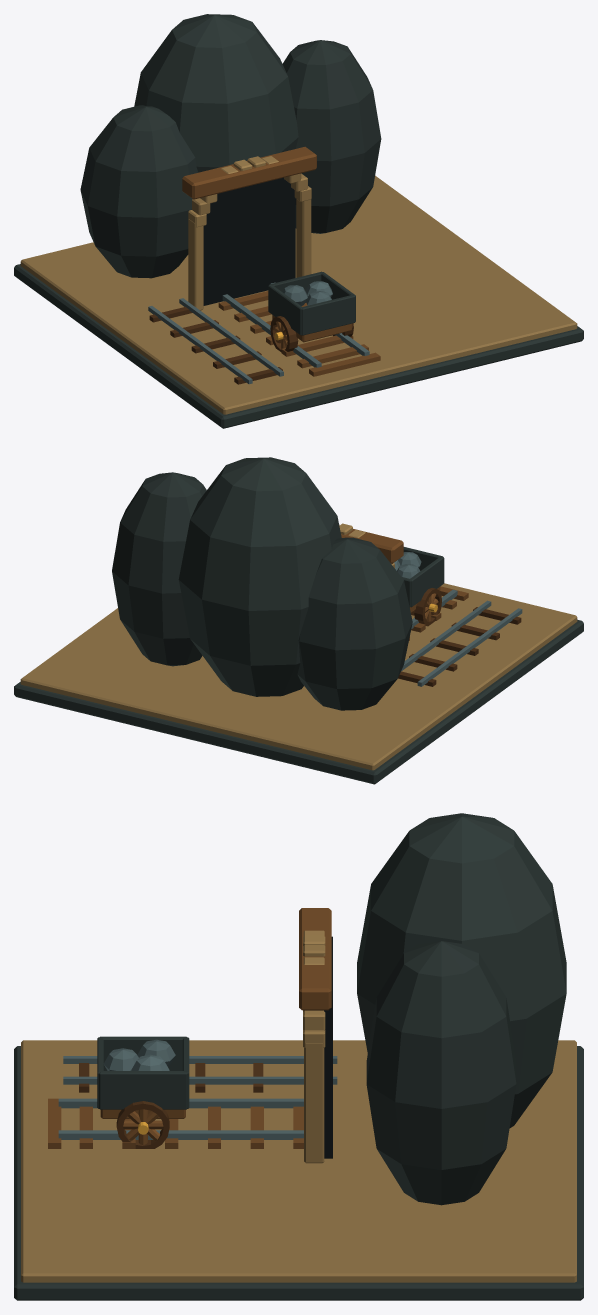
3 views of the same model, one above another, from view 1: azimuth 30°, elevation 25°; view 2: azimuth 150°, elevation 25°; view 3: azimuth 270°, elevation 25° (orthographic). The views are drawn at different scales.
Visible parts, largest first — view 1: mine_3_structure; view 2: mine_3_structure; view 3: mine_3_structure.
Part boxes in pixels (left/top/right/bottom): mine_3_structure: left=14, top=14, right=583, bottom=428; mine_3_structure: left=14, top=457, right=583, bottom=784; mine_3_structure: left=14, top=813, right=583, bottom=1300.
Bounding box in the file's own units: 5.6 × 3.78 × 5.6.
